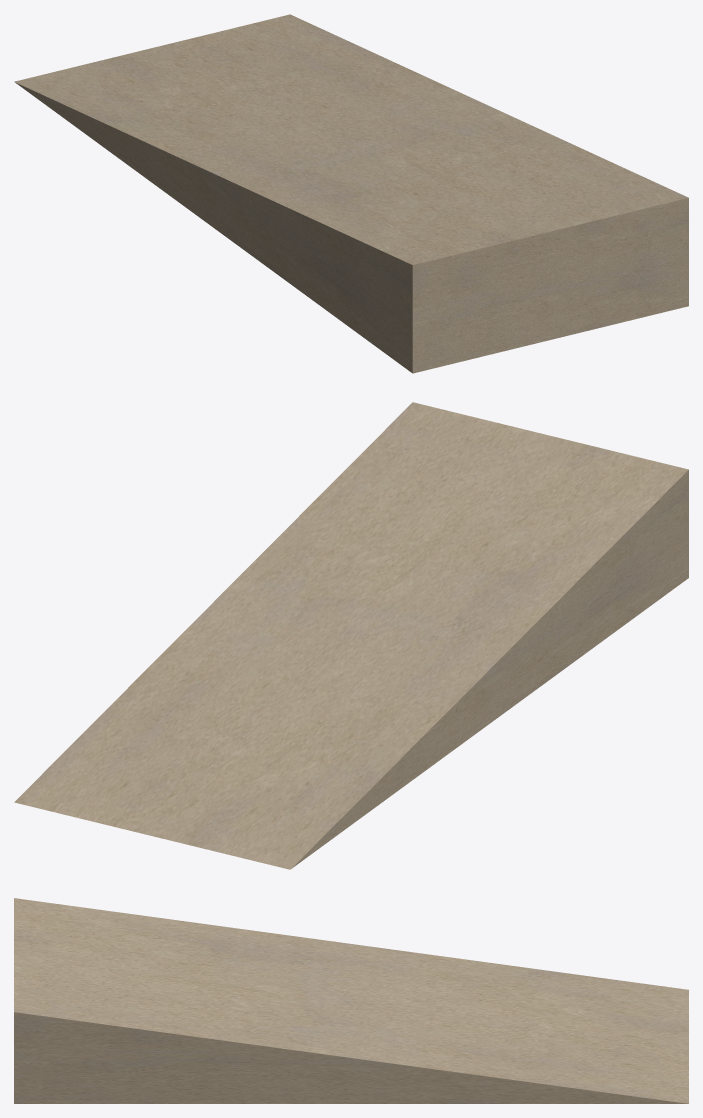
The model's file is Ramp.fbx.
The picture shows the model from 3 angles, top to bottom: view 1: azimuth 30°, elevation 25°; view 2: azimuth 150°, elevation 25°; view 3: azimuth 270°, elevation 25°; orthographic projection. The views are drawn at different scales.
Parts seen in each view (by area): view 1: Ramp; view 2: Ramp; view 3: Ramp.
Part boxes in pixels (x1,y1,x2,y2): Ramp: (14, 14, 688, 373); Ramp: (14, 402, 688, 869); Ramp: (14, 898, 688, 1103).
Size of the model in its own units: 1.2 by 0.45 by 3.
